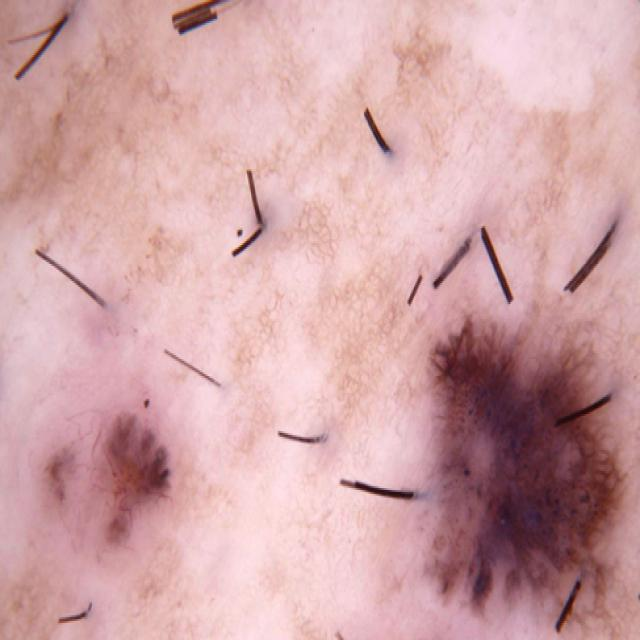Carcinoma: (402, 308, 640, 614), (18, 318, 205, 619)
